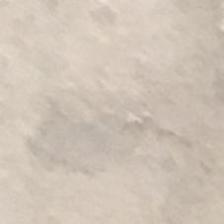Non_Crack: (13, 13, 199, 191)
